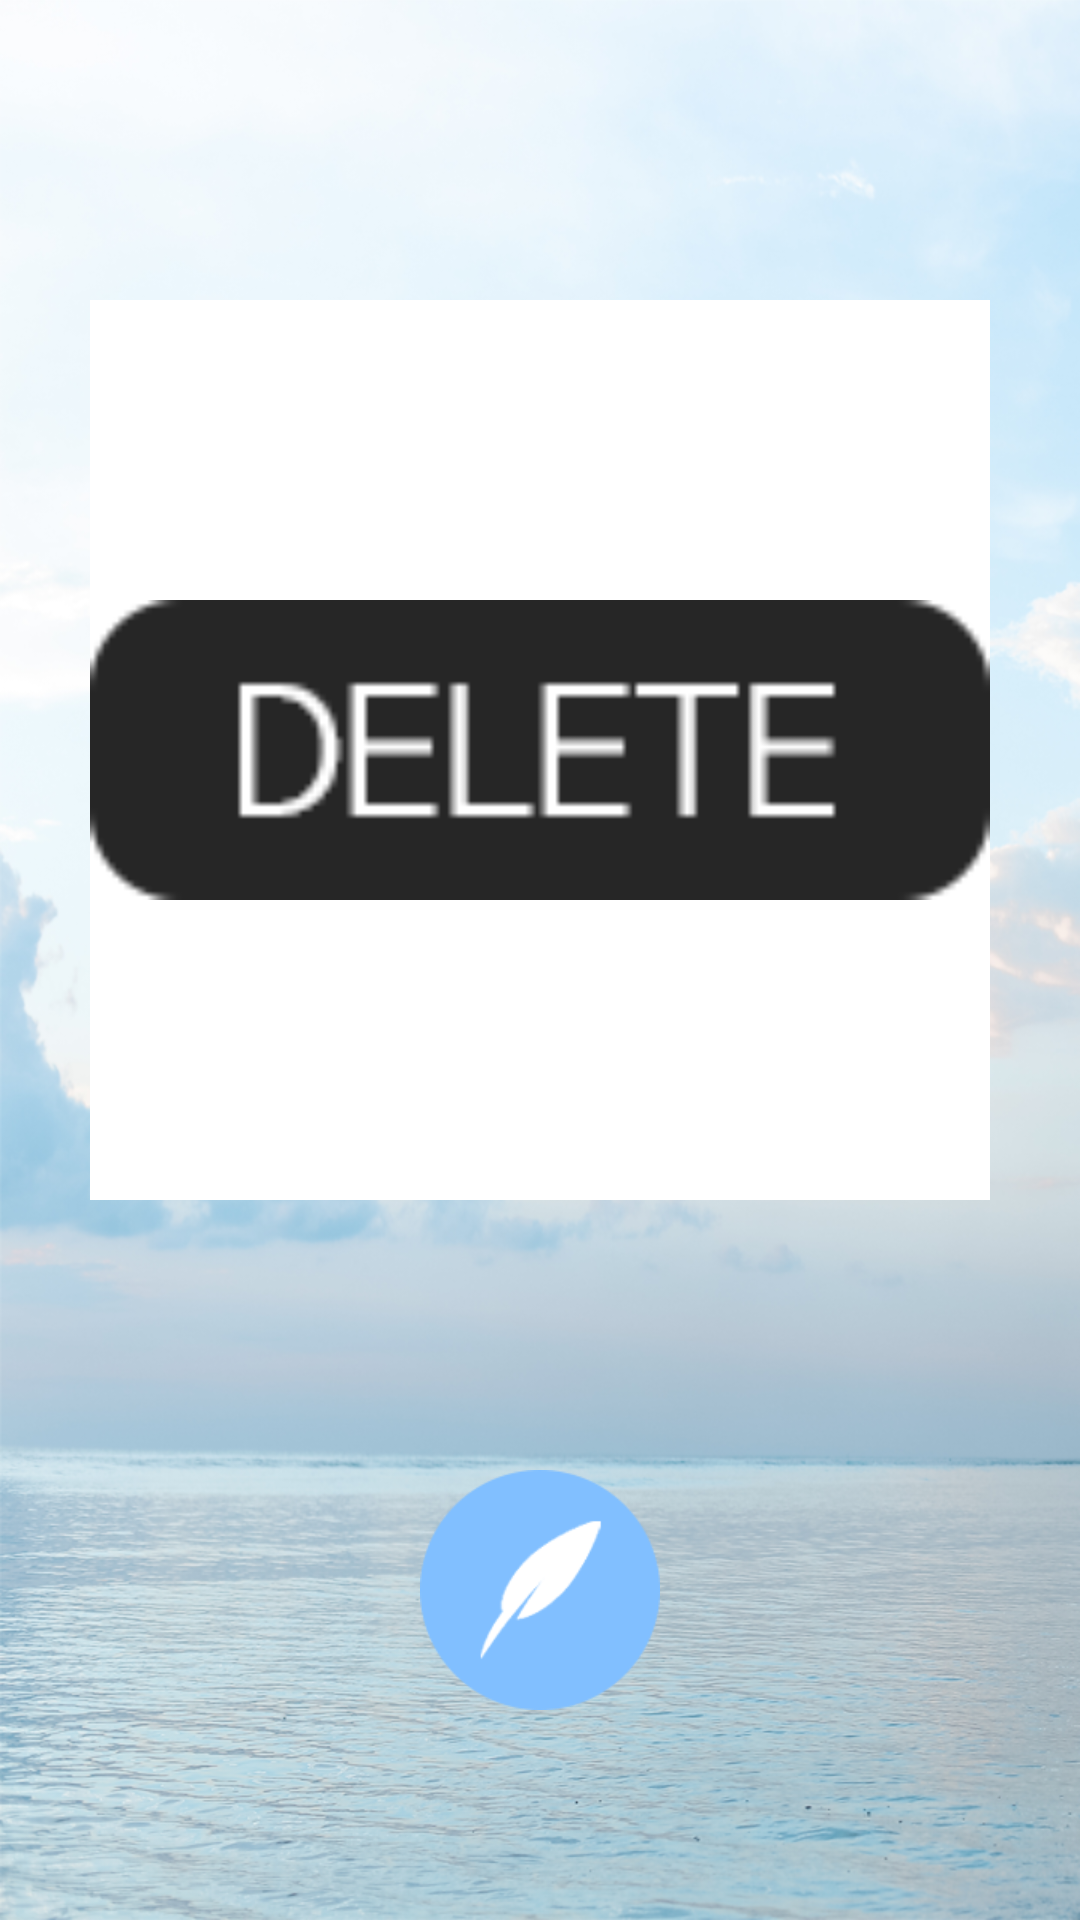

Screen size 1080×1920. Icon name, then its box in pixels as (x1, y1, x2, y2):
write: (420, 1470, 660, 1710)
